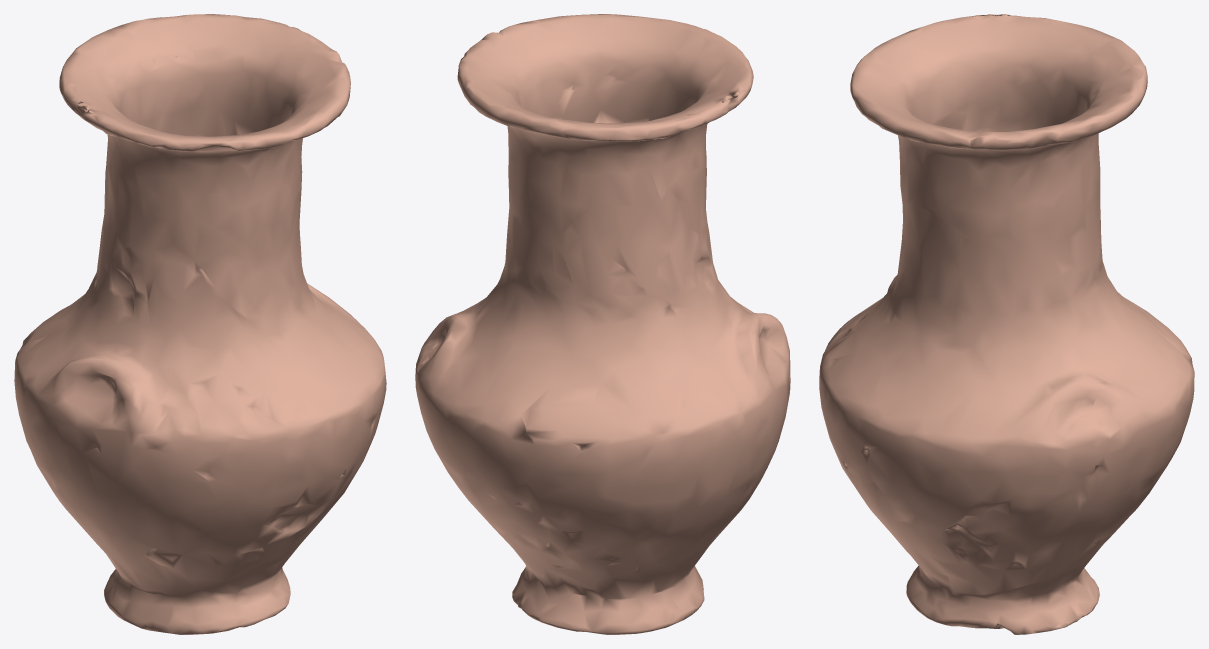
Rendered from wc-geto-dacian-biconical-vessel.lod1.glb.
3 renders of one model, left to right at view 1: azimuth 30°, elevation 25°; view 2: azimuth 150°, elevation 25°; view 3: azimuth 270°, elevation 25°, orthographic.
Visible parts, largest first — view 1: wc-geto-dacian-biconical-vessel; view 2: wc-geto-dacian-biconical-vessel; view 3: wc-geto-dacian-biconical-vessel.
Part boxes in pixels (bbox=[...]): wc-geto-dacian-biconical-vessel: bbox=[14, 14, 386, 634]; wc-geto-dacian-biconical-vessel: bbox=[415, 14, 790, 634]; wc-geto-dacian-biconical-vessel: bbox=[819, 14, 1194, 634].
Bounding box in the file's own units: 0.1923 × 0.3 × 0.1927.
